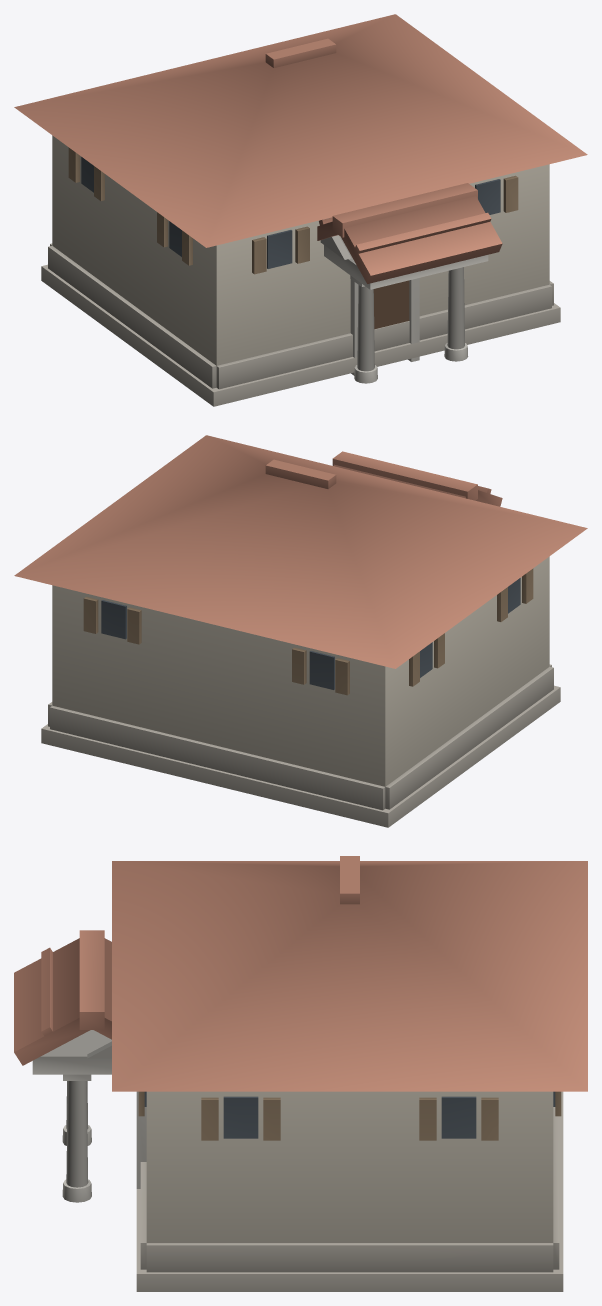
Rendered from house_ancient_0.glb.
The picture shows the model from 3 angles, top to bottom: view 1: azimuth 30°, elevation 25°; view 2: azimuth 150°, elevation 25°; view 3: azimuth 270°, elevation 25°; orthographic projection. The views are drawn at different scales.
Visible parts, largest first — view 1: Body_Roof, Body_Wall, Body_Detail; view 2: Body_Roof, Body_Wall, Body_Detail; view 3: Body_Roof, Body_Wall, Body_Detail.
Part boxes in pixels (bbox=[...]): Body_Roof: bbox=[14, 14, 587, 283]; Body_Wall: bbox=[52, 135, 549, 365]; Body_Detail: bbox=[41, 147, 560, 406]; Body_Roof: bbox=[14, 435, 587, 668]; Body_Wall: bbox=[52, 556, 549, 786]; Body_Detail: bbox=[41, 568, 560, 827]; Body_Roof: bbox=[14, 856, 587, 1091]; Body_Wall: bbox=[146, 1091, 553, 1242]; Body_Detail: bbox=[32, 1030, 563, 1291].
Size of the model in its own units: 1.1 by 0.705 by 1.16.
